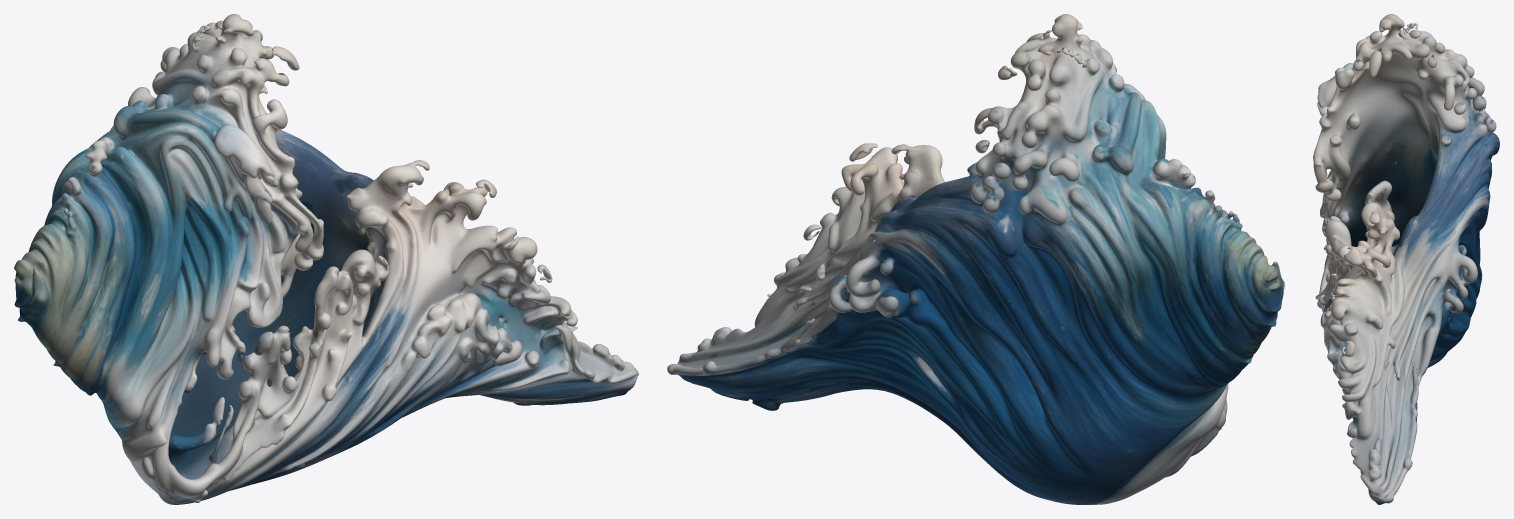
File: blue-conch.glb
3 renders of one model, left to right at view 1: azimuth 30°, elevation 25°; view 2: azimuth 150°, elevation 25°; view 3: azimuth 270°, elevation 25°, orthographic. The views are drawn at different scales.
Visible parts, largest first — view 1: node_0; view 2: node_0; view 3: node_0.
Boxes of the visible parts, <box> form: node_0: <box>14,14,638,504</box>; node_0: <box>667,14,1284,504</box>; node_0: <box>1313,14,1499,504</box>.
Size of the model in its own units: 1.55 by 1.12 by 0.5417.
Materials: 1 (1 with a texture image).
